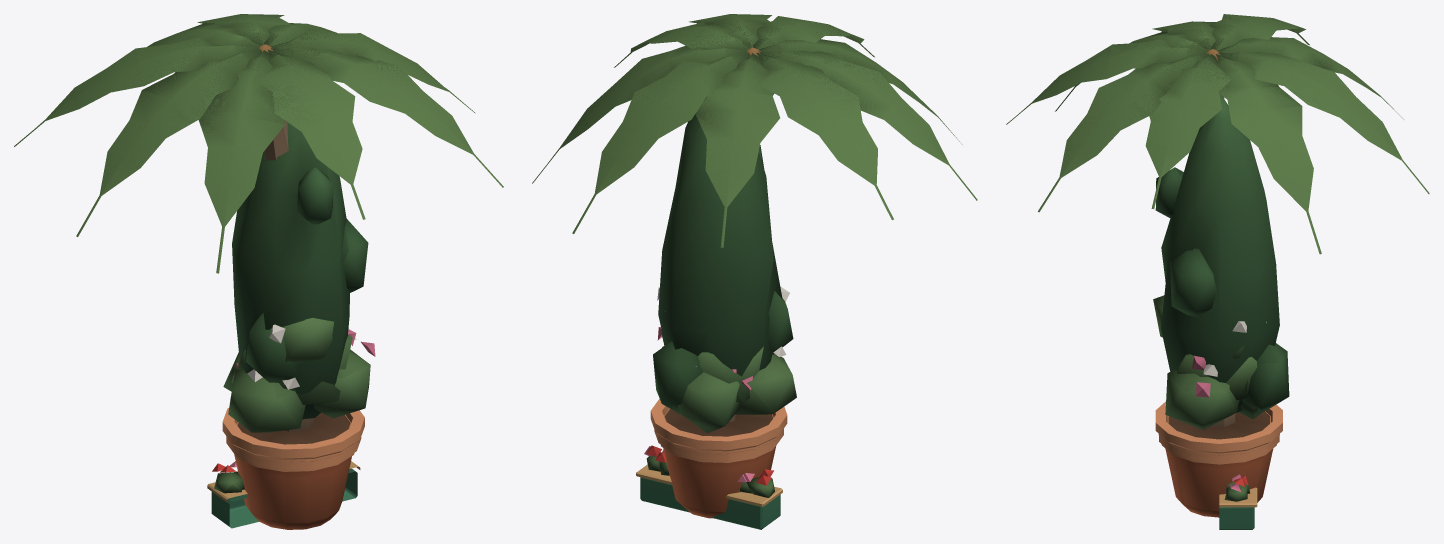
Rendered from kit_green.glb.
3 views of the same model, side by side, from view 1: azimuth 30°, elevation 25°; view 2: azimuth 150°, elevation 25°; view 3: azimuth 270°, elevation 25° (orthographic). The views are drawn at different scales.
Visible parts, largest first — view 1: planter_palm, planter_cypress, planter_oleander, flowerbox_1m; view 2: planter_palm, planter_cypress, planter_oleander, flowerbox_1m; view 3: planter_palm, planter_cypress, planter_oleander, flowerbox_1m.
Boxes of the visible parts, x1,y1,x2,y2 form: planter_palm: (14, 14, 503, 529); planter_cypress: (232, 122, 368, 419); planter_oleander: (223, 317, 375, 471); flowerbox_1m: (207, 461, 360, 528); planter_palm: (532, 14, 977, 518); planter_cypress: (653, 97, 793, 416); planter_oleander: (657, 286, 796, 462); flowerbox_1m: (636, 445, 782, 529); planter_palm: (1006, 14, 1429, 517); planter_cypress: (1155, 93, 1289, 412); planter_oleander: (1153, 295, 1279, 464); flowerbox_1m: (1219, 474, 1257, 529).
Size of the model in its own units: 3.04 by 3.58 by 3.13.
